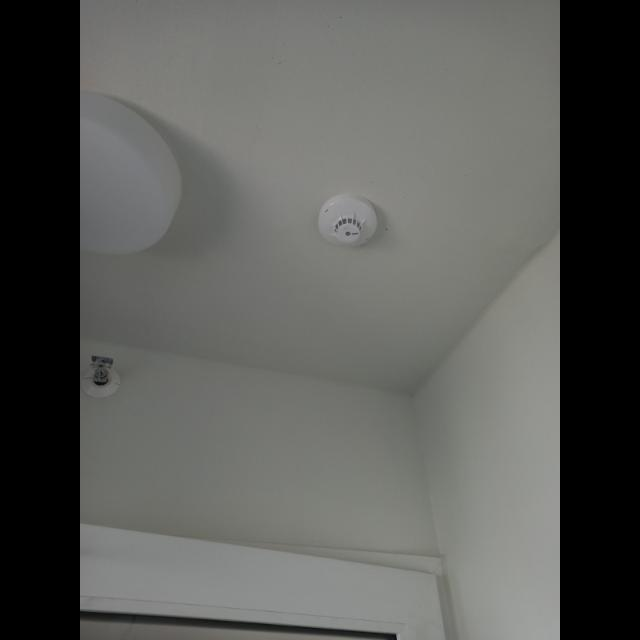Smoke-Detector: (319, 196, 377, 250)
